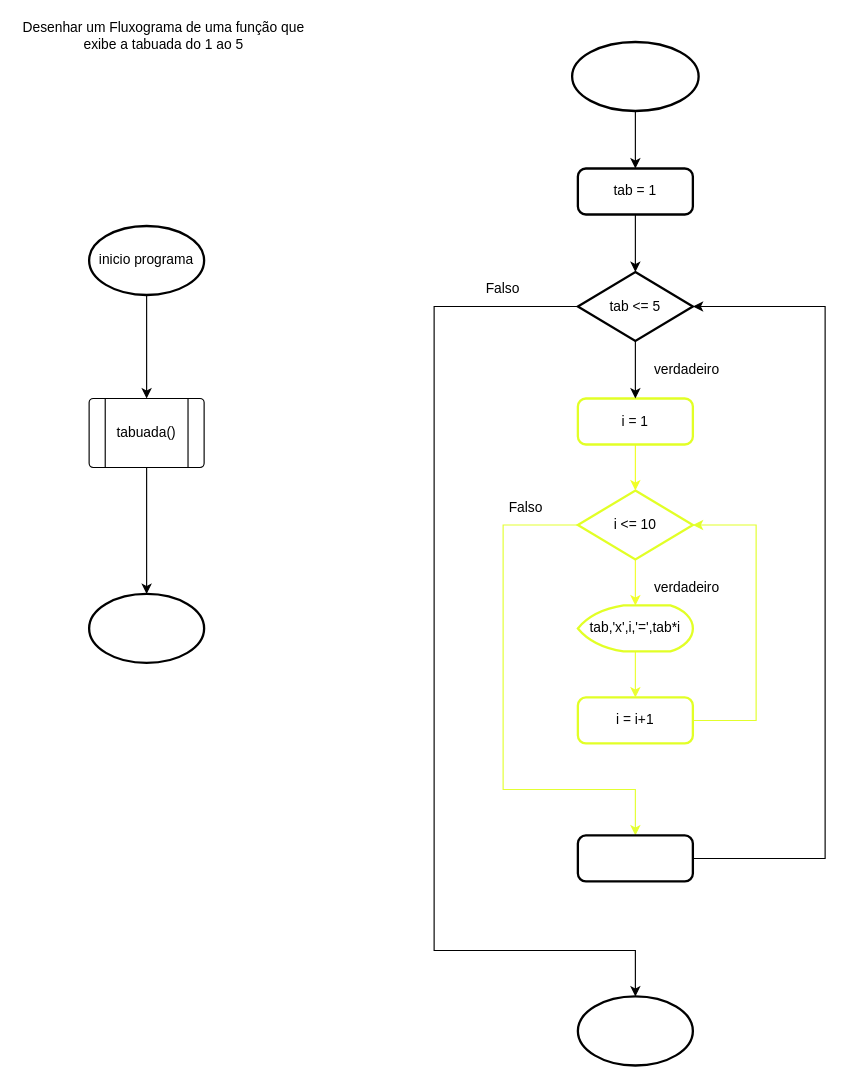
This 854x1087 diagram has some shape labels left out. The shapes that lost their labels are listed below. From the top down, each one's centre as x and y in pixels, then its label:
At point (634, 76): "inicio função tabuada()".
At point (146, 628): "fim programa".
At point (634, 858): "tab = tab + 1".
At point (634, 1030): "return".
